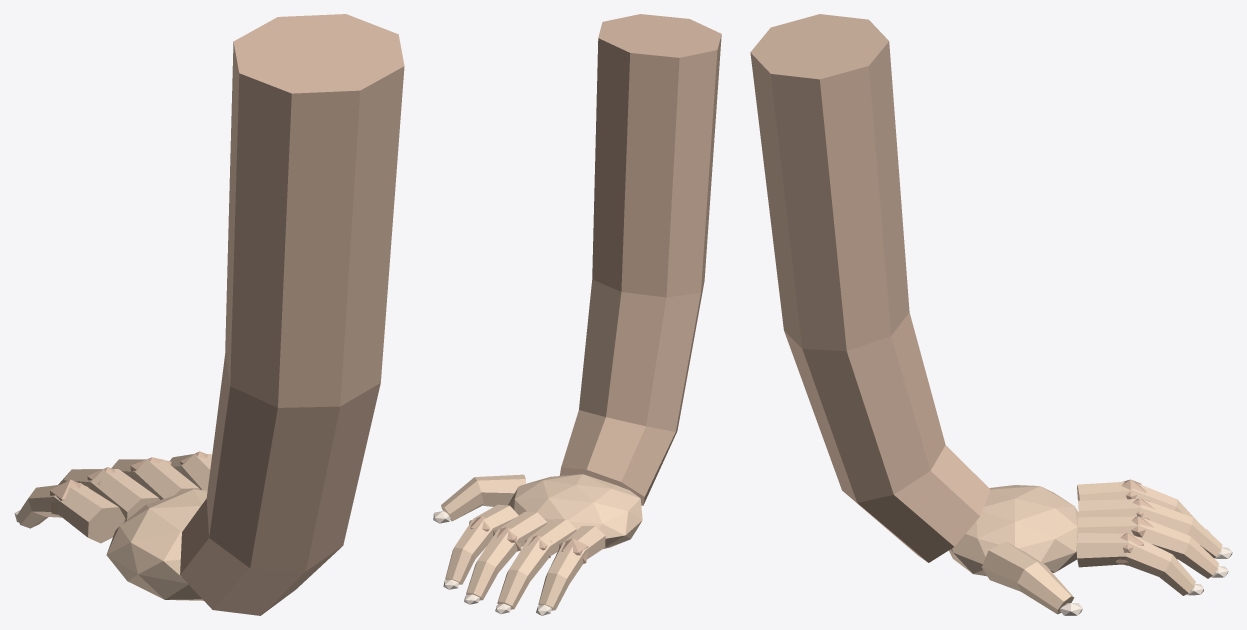
The model's file is Cave_CyclopsHand.fbx.
3 views of the same model, side by side, from view 1: azimuth 30°, elevation 25°; view 2: azimuth 150°, elevation 25°; view 3: azimuth 270°, elevation 25° (orthographic). The views are drawn at different scales.
Parts seen in each view (by area): view 1: Cave_CyclopsHand; view 2: Cave_CyclopsHand; view 3: Cave_CyclopsHand.
Boxes of the visible parts, x1,y1,x2,y2 form: Cave_CyclopsHand: (14, 14, 404, 615); Cave_CyclopsHand: (433, 14, 721, 615); Cave_CyclopsHand: (750, 14, 1232, 615).
Size of the model in its own units: 3.56 by 8.63 by 7.16.
